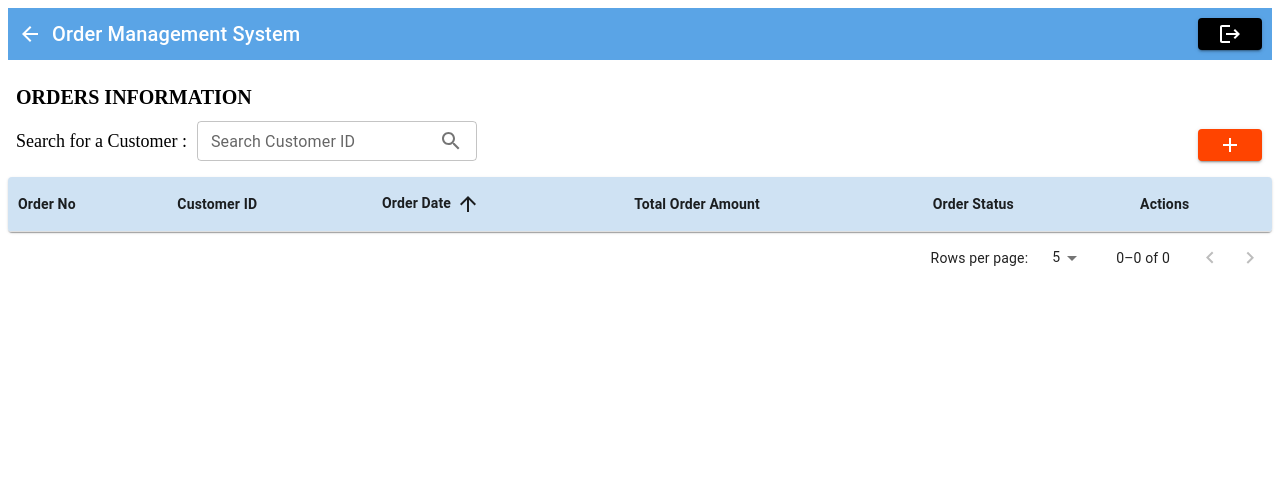
Test: Order Component › user can change rows per page
Press the mouse on the dropdown named "Rows per page" at (1056, 257), box [1052, 249, 1060, 265]
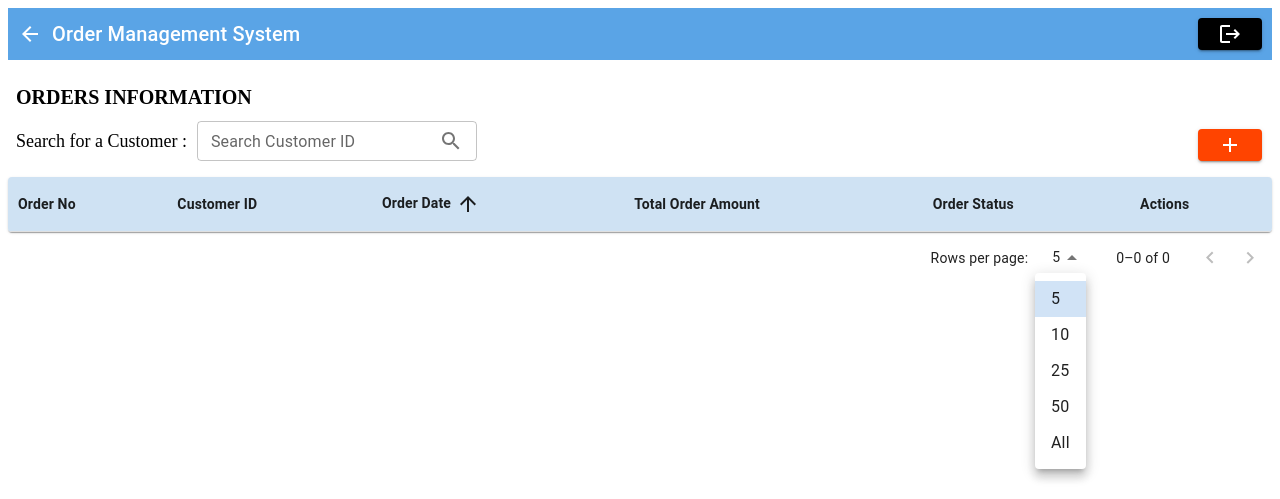
Click the option "10" at (1060, 334), box [1051, 325, 1069, 344]
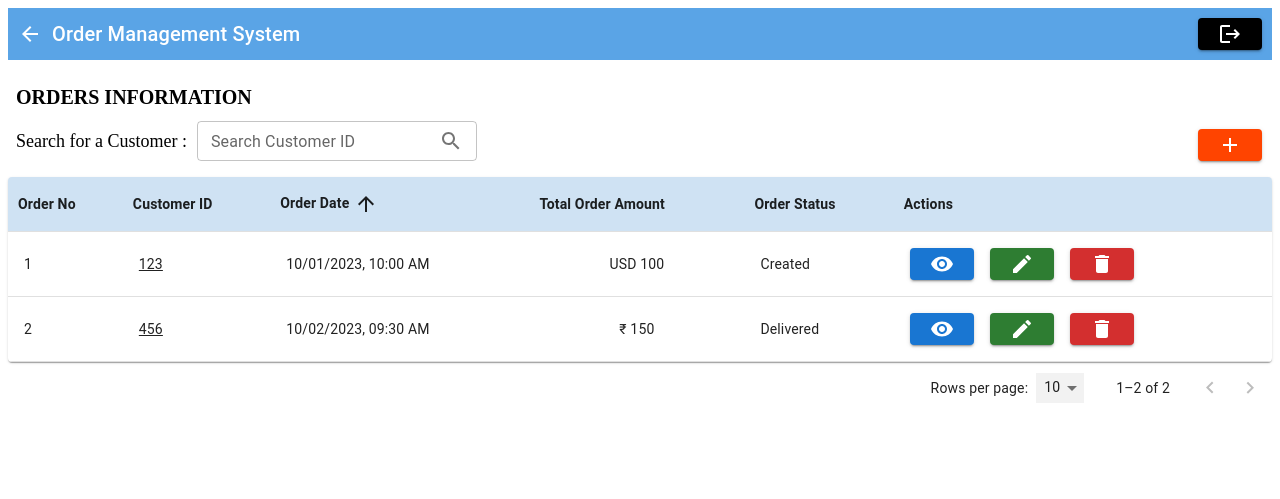
Expected: the number of rows is 3, [8, 177, 1272, 232]; [8, 232, 1272, 296]; [8, 296, 1272, 362]
